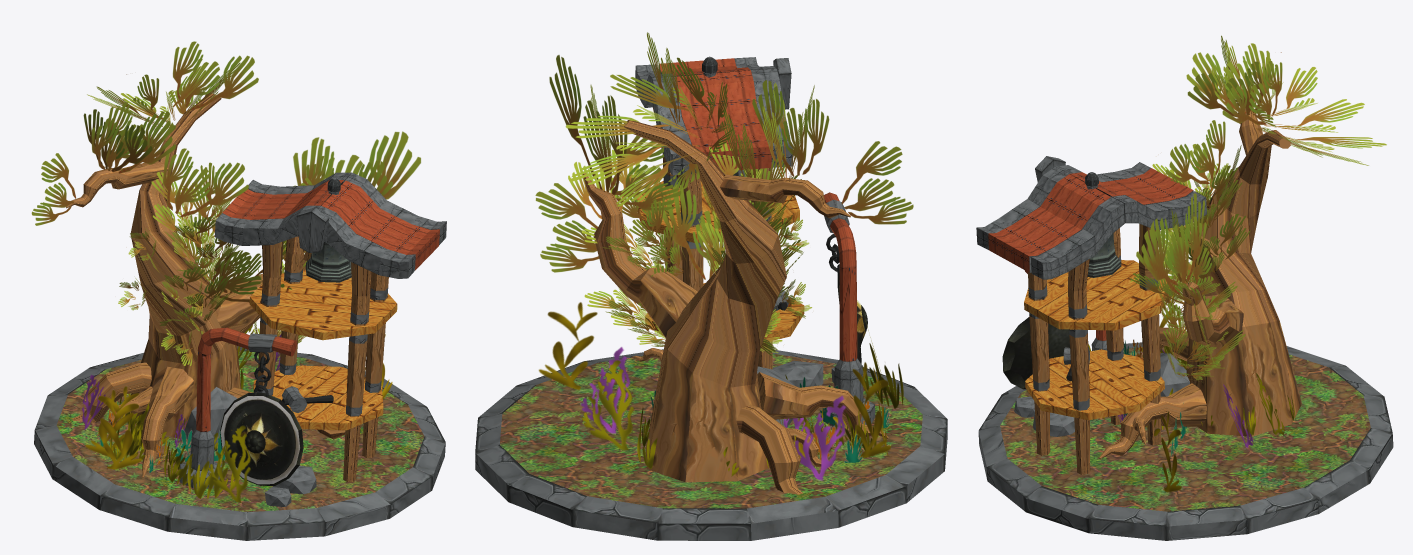
File: tower_2.glb
3 views of the same model, side by side, from view 1: azimuth 30°, elevation 25°; view 2: azimuth 150°, elevation 25°; view 3: azimuth 270°, elevation 25° (orthographic). The views are drawn at different scales.
Visible parts, largest first — view 1: Cylinder.004, Plane, Cube, Cylinder, Cylinder.006, Cylinder.005, Cylinder.001, Cylinder.003, Plane.001, Cylinder.009, Cylinder.008, Cylinder.002 (+4 smaller); view 2: Cylinder.004, Cylinder, Plane, Cylinder.001, Cube, Plane.001, Cylinder.003, Cylinder.002, Cylinder.008, Cylinder.006, Cylinder.005, Icosphere (+2 smaller); view 3: Cylinder.004, Cylinder, Cube, Cylinder.006, Plane, Cylinder.005, Cylinder.003, Cylinder.001, Cylinder.002, Plane.001, Cylinder.009, Icosphere (+1 smaller).
Part boxes in pixels (left/top/right/bottom): Cylinder.004: left=34, top=346, right=445, bottom=540; Plane: left=31, top=41, right=420, bottom=302; Cube: left=214, top=172, right=446, bottom=278; Cylinder: left=130, top=93, right=241, bottom=438; Cylinder.006: left=249, top=270, right=397, bottom=430; Cylinder.005: left=257, top=236, right=388, bottom=481; Cylinder.001: left=66, top=161, right=360, bottom=477; Cylinder.003: left=118, top=162, right=306, bottom=365; Plane.001: left=81, top=325, right=392, bottom=503; Cylinder.009: left=220, top=392, right=303, bottom=485; Cylinder.008: left=179, top=327, right=296, bottom=488; Cylinder.002: left=87, top=62, right=240, bottom=133; Cylinder.004: left=475, top=349, right=947, bottom=540; Cylinder: left=620, top=120, right=786, bottom=482; Plane: left=535, top=32, right=913, bottom=279; Cylinder.001: left=582, top=173, right=888, bottom=494; Cube: left=635, top=57, right=792, bottom=175; Plane.001: left=538, top=302, right=903, bottom=480; Cylinder.003: left=581, top=140, right=811, bottom=355; Cylinder.002: left=565, top=57, right=732, bottom=206; Cylinder.008: left=823, top=192, right=875, bottom=427; Cylinder.006: left=634, top=180, right=804, bottom=341; Cylinder.005: left=653, top=107, right=772, bottom=369; Icosphere: left=757, top=360, right=862, bottom=426; Cylinder.004: left=978, top=342, right=1393, bottom=540; Cylinder: left=1186, top=130, right=1301, bottom=436; Cube: left=976, top=162, right=1206, bottom=279; Cylinder.006: left=1024, top=260, right=1166, bottom=420; Plane: left=1130, top=35, right=1282, bottom=366; Cylinder.005: left=1028, top=224, right=1161, bottom=474; Cylinder.003: left=1152, top=144, right=1250, bottom=380; Cylinder.001: left=1099, top=108, right=1262, bottom=458; Cylinder.002: left=1249, top=52, right=1386, bottom=165; Plane.001: left=1088, top=284, right=1295, bottom=492; Cylinder.009: left=1002, top=317, right=1069, bottom=389; Icosphere: left=1014, top=353, right=1189, bottom=436.
Size of the model in its own units: 14.94 by 15.24 by 13.86.
14 materials, 14 textured.
